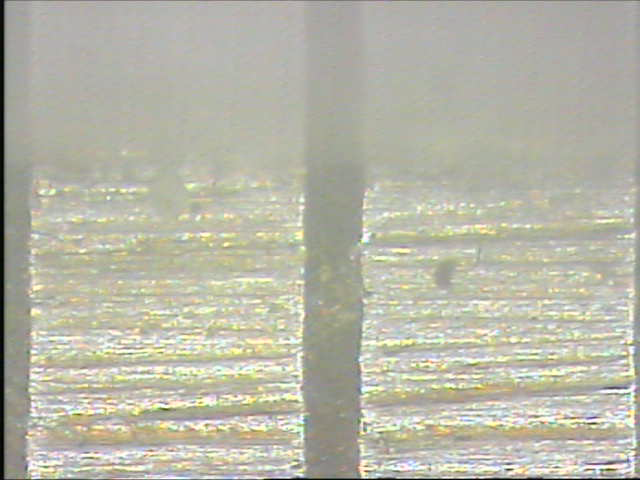line: (301, 173, 366, 476), (304, 1, 367, 188)
